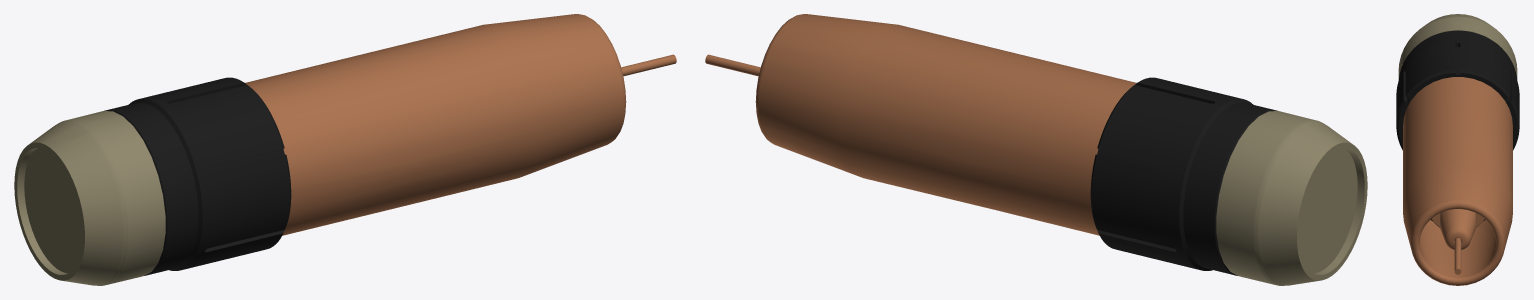
Rendered from Roboterbrenner Ghost.fbx.
3 renders of one model, left to right at view 1: azimuth 30°, elevation 25°; view 2: azimuth 150°, elevation 25°; view 3: azimuth 270°, elevation 25°, orthographic. The views are drawn at different scales.
Parts seen in each view (by area): view 1: Gasduese, Schelle_Spitze, Gasduese_Schwanenhals, Schweissdraht; view 2: Gasduese, Schelle_Spitze, Gasduese_Schwanenhals, Schweissdraht; view 3: Gasduese, Schelle_Spitze, Gasduese_Schwanenhals, Stromduese, Gasduese_Rand_unten, Schweissdraht.
Boxes of the visible parts, left/top/right/bottom form: Gasduese: left=245, top=14, right=626, bottom=235; Schelle_Spitze: left=104, top=77, right=291, bottom=275; Gasduese_Schwanenhals: left=14, top=111, right=165, bottom=285; Schweissdraht: left=621, top=54, right=676, bottom=76; Gasduese: left=755, top=14, right=1136, bottom=235; Schelle_Spitze: left=1090, top=77, right=1277, bottom=275; Gasduese_Schwanenhals: left=1216, top=111, right=1367, bottom=285; Schweissdraht: left=705, top=54, right=760, bottom=76; Gasduese: left=1403, top=77, right=1512, bottom=285; Schelle_Spitze: left=1396, top=30, right=1519, bottom=150; Gasduese_Schwanenhals: left=1398, top=14, right=1517, bottom=78; Stromduese: left=1431, top=209, right=1484, bottom=249; Gasduese_Rand_unten: left=1411, top=200, right=1504, bottom=285; Schweissdraht: left=1454, top=238, right=1461, bottom=274.
Bounding box in the file's own units: 114 × 28 × 28.
